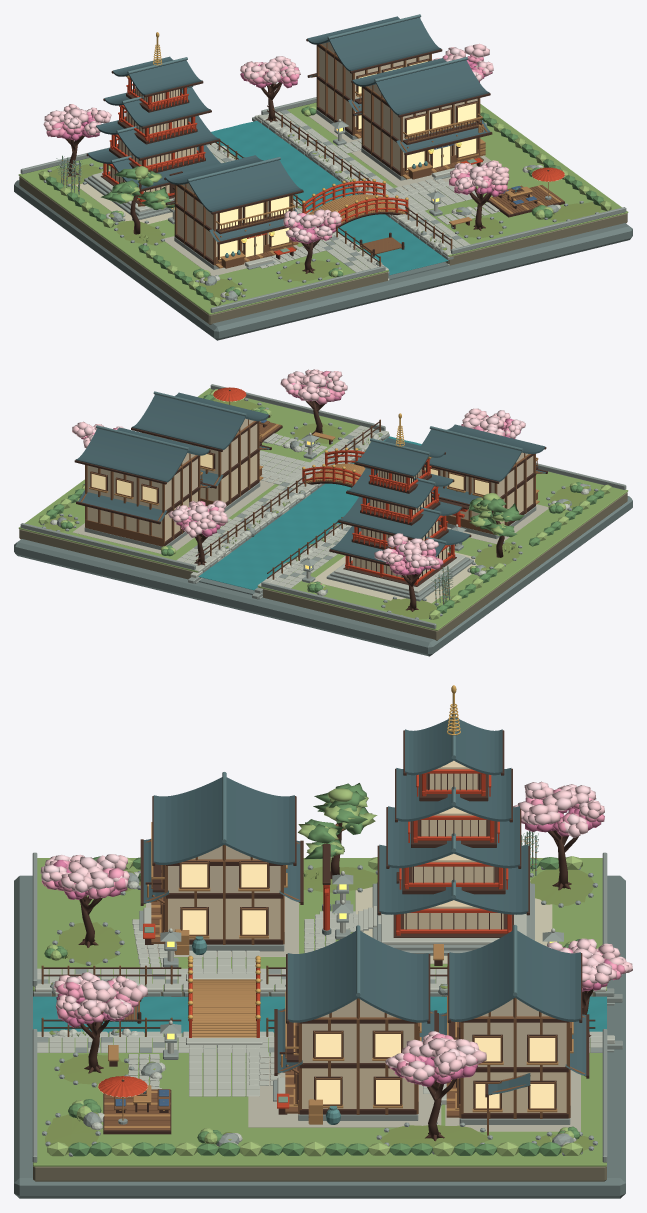
The model's file is kyoto_environment_lod1.glb.
3 renders of one model, top to bottom at view 1: azimuth 30°, elevation 25°; view 2: azimuth 150°, elevation 25°; view 3: azimuth 270°, elevation 25°, orthographic. The views are drawn at different scales.
Parts seen in each view (by area): view 1: SM_Ground_grass.001, SM_Ground_stone_dark.001, SM_Nature_Trees_sakura_canopy_vertex.001, SM_Water_water.001, SM_Pagoda_roof.001, SM_Ground_stone_light.001, SM_Ground_soil.001, SM_Architecture_TeaHouse_roof.001, SM_Architecture_Merchant_roof.001, SM_Ground_stone.001, SM_Architecture_Inn_roof.001, SM_Gardens_moss.001 (+41 smaller); view 2: SM_Ground_grass.001, SM_Ground_stone_dark.001, SM_Nature_Trees_sakura_canopy_vertex.001, SM_Water_water.001, SM_Pagoda_roof.001, SM_Ground_stone_light.001, SM_Ground_soil.001, SM_Ground_stone.001, SM_Architecture_Inn_roof.001, SM_Architecture_TeaHouse_roof.001, SM_Architecture_Merchant_roof.001, SM_Pagoda_wood_dark.001 (+39 smaller); view 3: SM_Ground_grass.001, SM_Ground_stone_dark.001, SM_Nature_Trees_sakura_canopy_vertex.001, SM_Pagoda_roof.001, SM_Architecture_Merchant_roof.001, SM_Ground_stone_light.001, SM_Architecture_TeaHouse_roof.001, SM_Architecture_Inn_roof.001, SM_Ground_soil.001, SM_Gardens_moss.001, SM_Pagoda_plaster_warm.001, SM_Gardens_paving.001 (+43 smaller).
Boxes of the visible parts, box(x1,y1,x2,y2) form: SM_Ground_grass.001: box(18, 102, 628, 314); SM_Ground_stone_dark.001: box(14, 180, 632, 340); SM_Nature_Trees_sakura_canopy_vertex.001: box(43, 43, 509, 243); SM_Water_water.001: box(211, 121, 448, 275); SM_Pagoda_roof.001: box(87, 56, 220, 189); SM_Ground_stone_light.001: box(207, 111, 483, 280); SM_Ground_soil.001: box(19, 126, 627, 324); SM_Architecture_TeaHouse_roof.001: box(352, 58, 490, 152); SM_Architecture_Merchant_roof.001: box(165, 155, 302, 241); SM_Ground_stone.001: box(20, 97, 626, 312); SM_Architecture_Inn_roof.001: box(307, 16, 441, 112); SM_Gardens_moss.001: box(49, 164, 601, 301); SM_Ground_grass.001: box(18, 388, 628, 630); SM_Ground_stone_dark.001: box(14, 496, 632, 656); SM_Nature_Trees_sakura_canopy_vertex.001: box(72, 369, 525, 575); SM_Water_water.001: box(198, 436, 421, 590); SM_Pagoda_roof.001: box(330, 438, 470, 571); SM_Ground_stone_light.001: box(176, 425, 450, 588); SM_Ground_soil.001: box(19, 459, 627, 640); SM_Ground_stone.001: box(20, 384, 626, 628); SM_Architecture_Inn_roof.001: box(75, 427, 210, 521); SM_Architecture_TeaHouse_roof.001: box(131, 392, 269, 485); SM_Architecture_Merchant_roof.001: box(421, 424, 546, 503); SM_Pagoda_wood_dark.001: box(329, 452, 471, 586); SM_Ground_grass.001: box(33, 858, 606, 1166); SM_Ground_stone_dark.001: box(14, 875, 625, 1198); SM_Nature_Trees_sakura_canopy_vertex.001: box(40, 781, 632, 1086); SM_Pagoda_roof.001: box(379, 718, 528, 914); SM_Architecture_Merchant_roof.001: box(143, 777, 300, 903); SM_Ground_stone_light.001: box(34, 911, 614, 1096); SM_Architecture_TeaHouse_roof.001: box(277, 931, 434, 1073); SM_Architecture_Inn_roof.001: box(439, 930, 586, 1094); SM_Ground_soil.001: box(33, 991, 606, 1181); SM_Gardens_moss.001: box(45, 866, 595, 1154); SM_Pagoda_plaster_warm.001: box(404, 760, 503, 929); SM_Gardens_paving.001: box(146, 896, 580, 1131).
Size of the model in its own units: 38 by 15.77 by 32.37.
